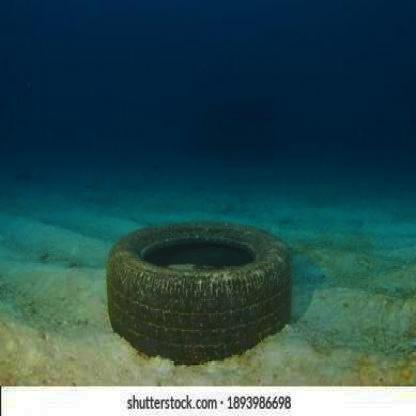tire: (98, 214, 296, 360)
